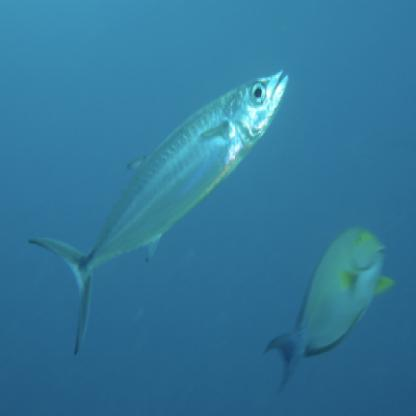Acanthuridae -Surgeonfishes-: (261, 220, 397, 403)
Scombridae -Tunas-: (25, 65, 289, 359)
